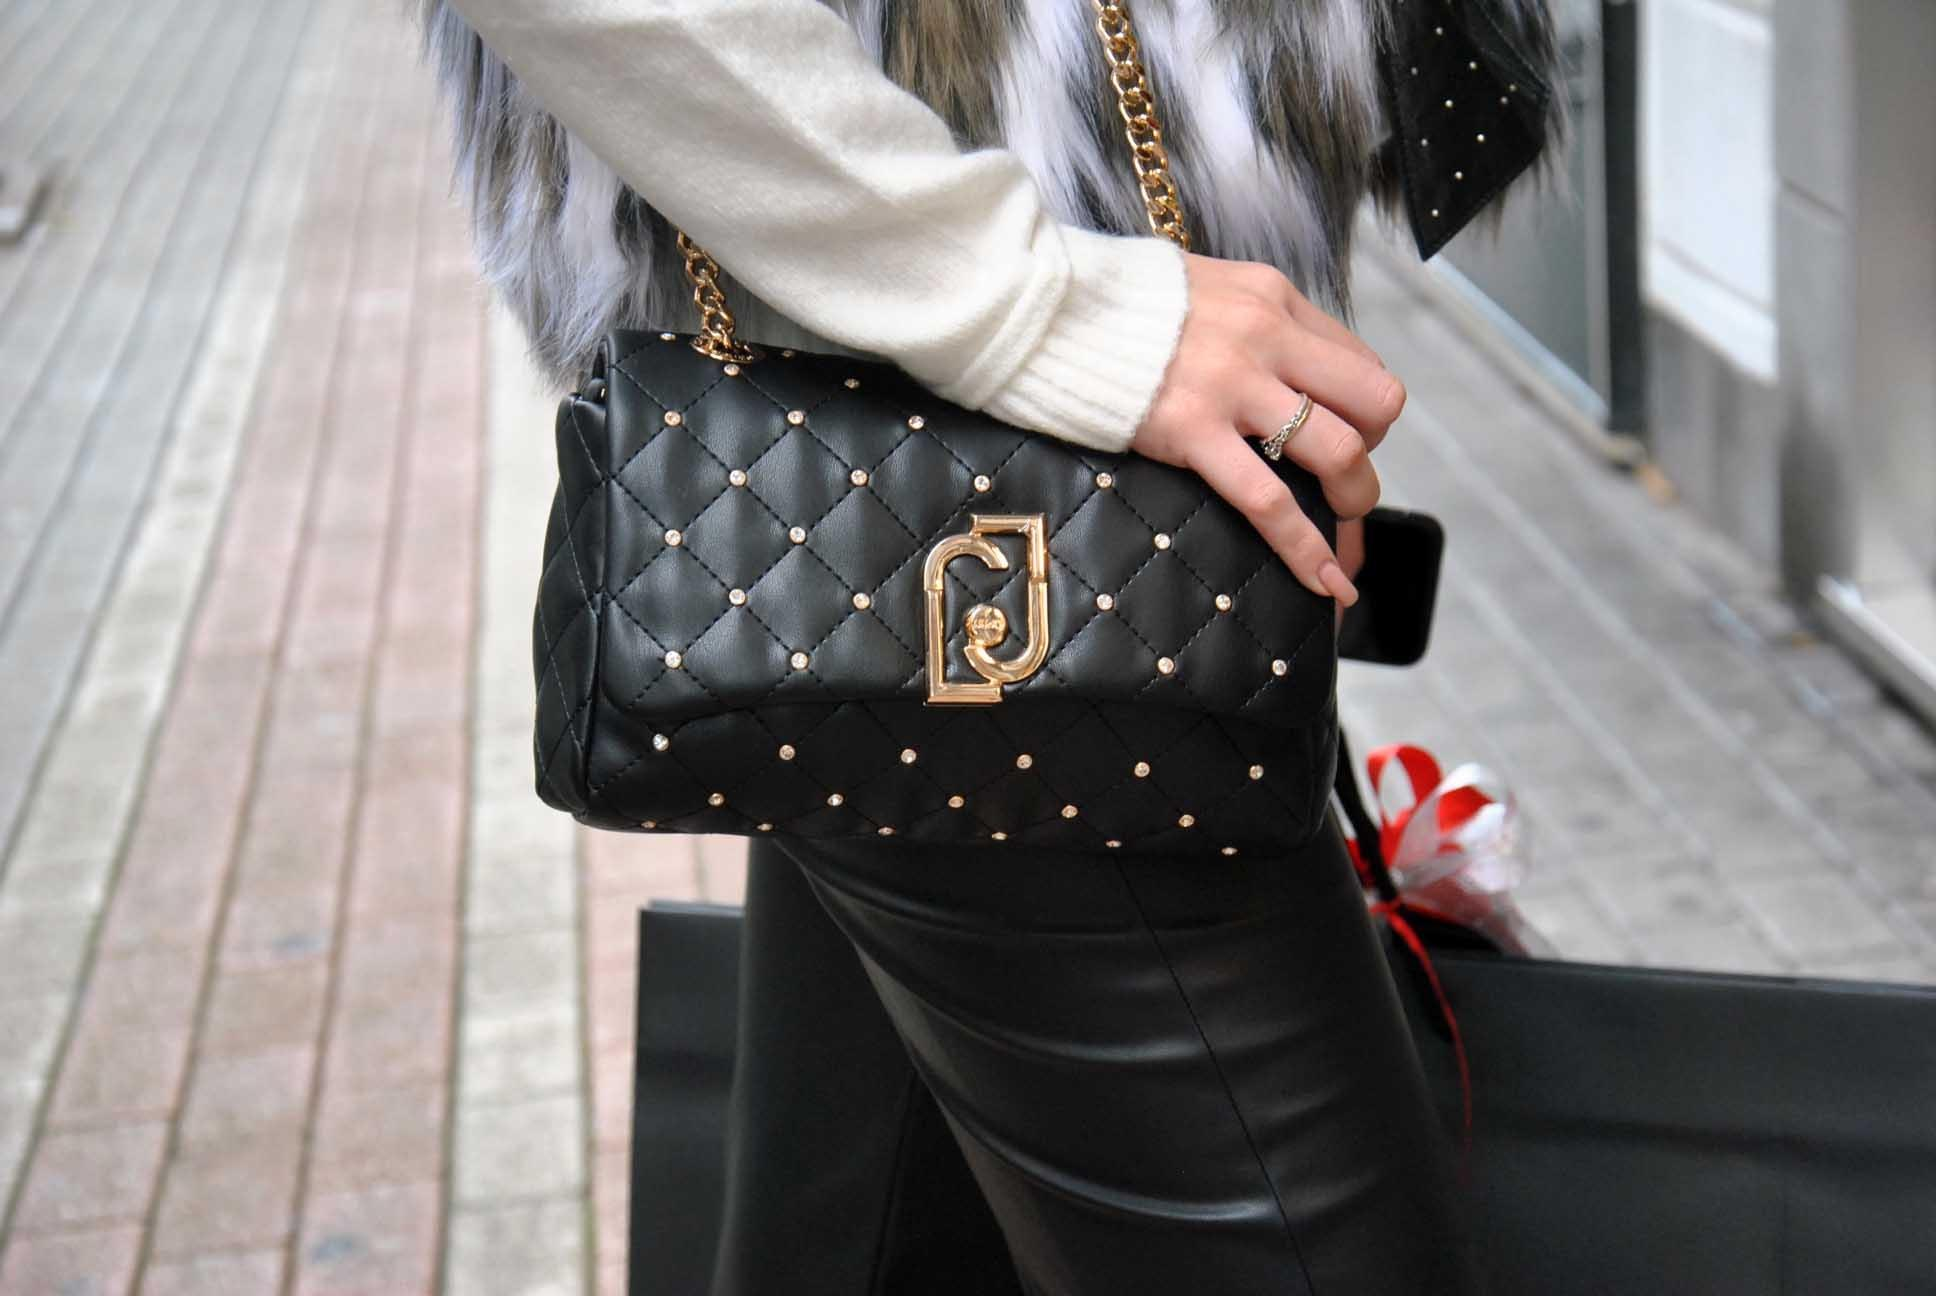LIU-JO: (922, 512, 1050, 704)
